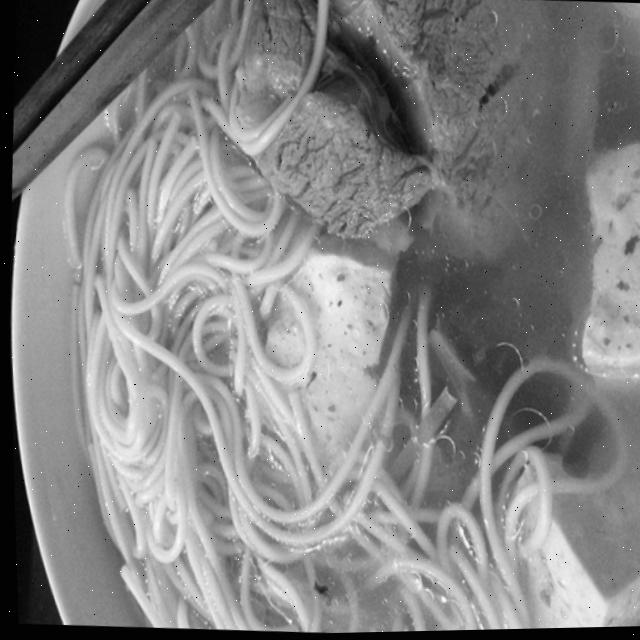面条主食: (29, 0, 640, 639)
